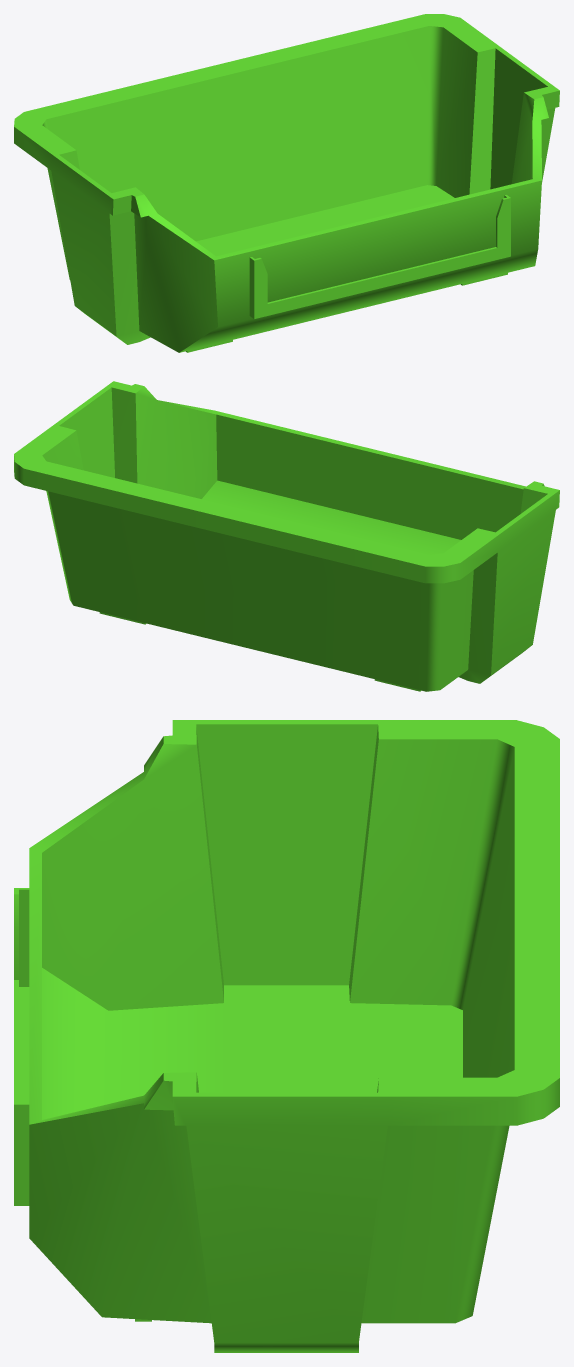
File: CratePlastic_White_03.FBX
The picture shows the model from 3 angles, top to bottom: view 1: azimuth 30°, elevation 25°; view 2: azimuth 150°, elevation 25°; view 3: azimuth 270°, elevation 25°; orthographic projection. The views are drawn at different scales.
Visible parts, largest first — view 1: SM_CratePlastic_B_04_LOD0; view 2: SM_CratePlastic_B_04_LOD0; view 3: SM_CratePlastic_B_04_LOD0.
Part boxes in pixels (box(x1,y1,x2,y2)): SM_CratePlastic_B_04_LOD0: box(14, 14, 559, 352); SM_CratePlastic_B_04_LOD0: box(14, 381, 559, 691); SM_CratePlastic_B_04_LOD0: box(14, 720, 559, 1352).
Bounding box in the file's own units: 39.6 × 13.63 × 24.26.
